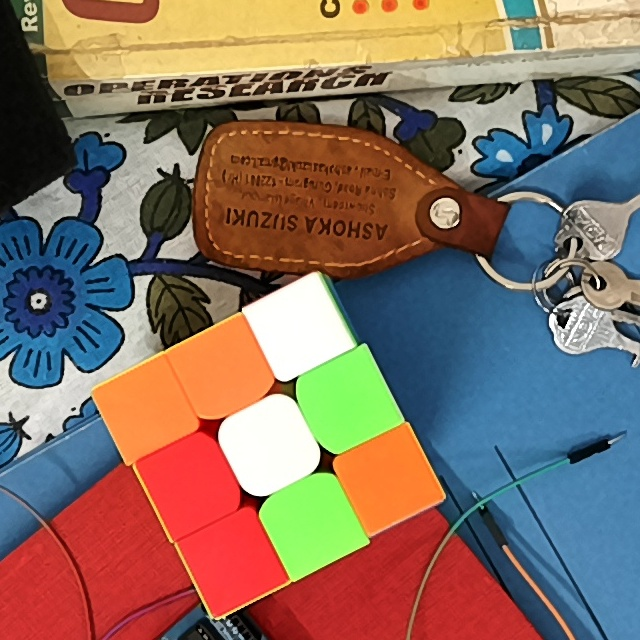tile: (359, 448, 419, 511), (162, 452, 221, 515), (317, 371, 378, 431), (114, 379, 176, 438), (281, 493, 340, 553), (267, 300, 328, 358), (204, 531, 263, 590), (196, 341, 257, 398), (242, 415, 299, 472)
